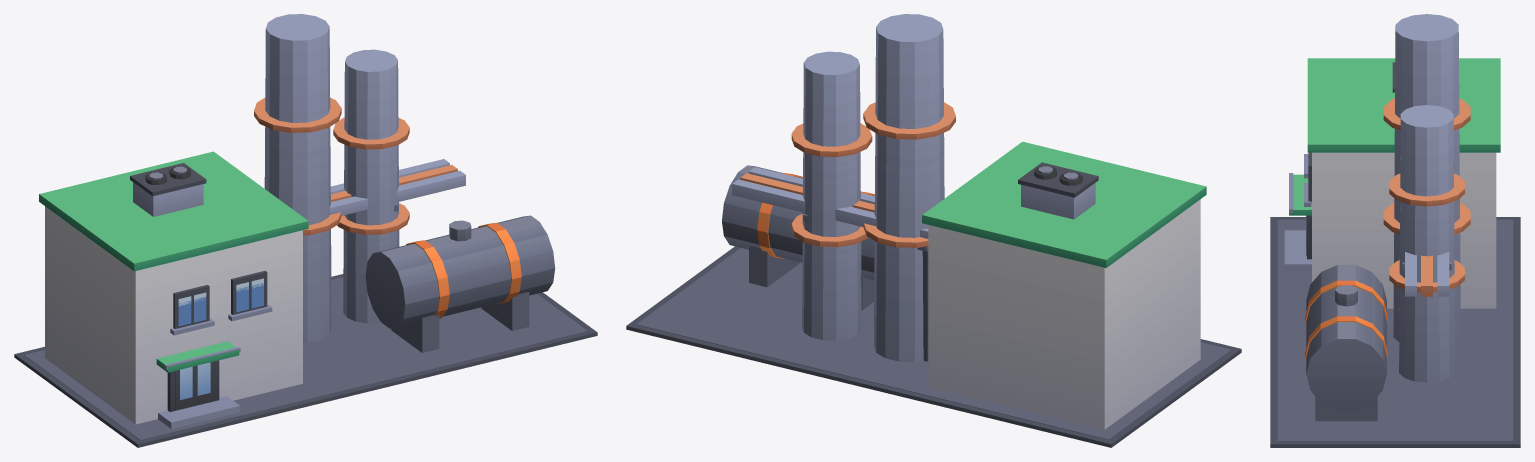
File: ind_chem_reactor_2x1.glb
3 views of the same model, side by side, from view 1: azimuth 30°, elevation 25°; view 2: azimuth 150°, elevation 25°; view 3: azimuth 270°, elevation 25° (orthographic). The views are drawn at different scales.
Visible parts, largest first — view 1: ind_chem_reactor_2x1; view 2: ind_chem_reactor_2x1; view 3: ind_chem_reactor_2x1.
Part boxes in pixels (bbox=[...]): ind_chem_reactor_2x1: bbox=[14, 14, 597, 447]; ind_chem_reactor_2x1: bbox=[626, 14, 1241, 447]; ind_chem_reactor_2x1: bbox=[1270, 14, 1520, 447].
Bounding box in the file's own units: 3.74 × 2.38 × 1.74.
Materials: 1 (1 with a texture image).
